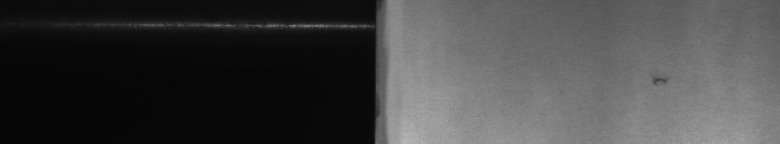fi: (649, 68, 670, 90)
